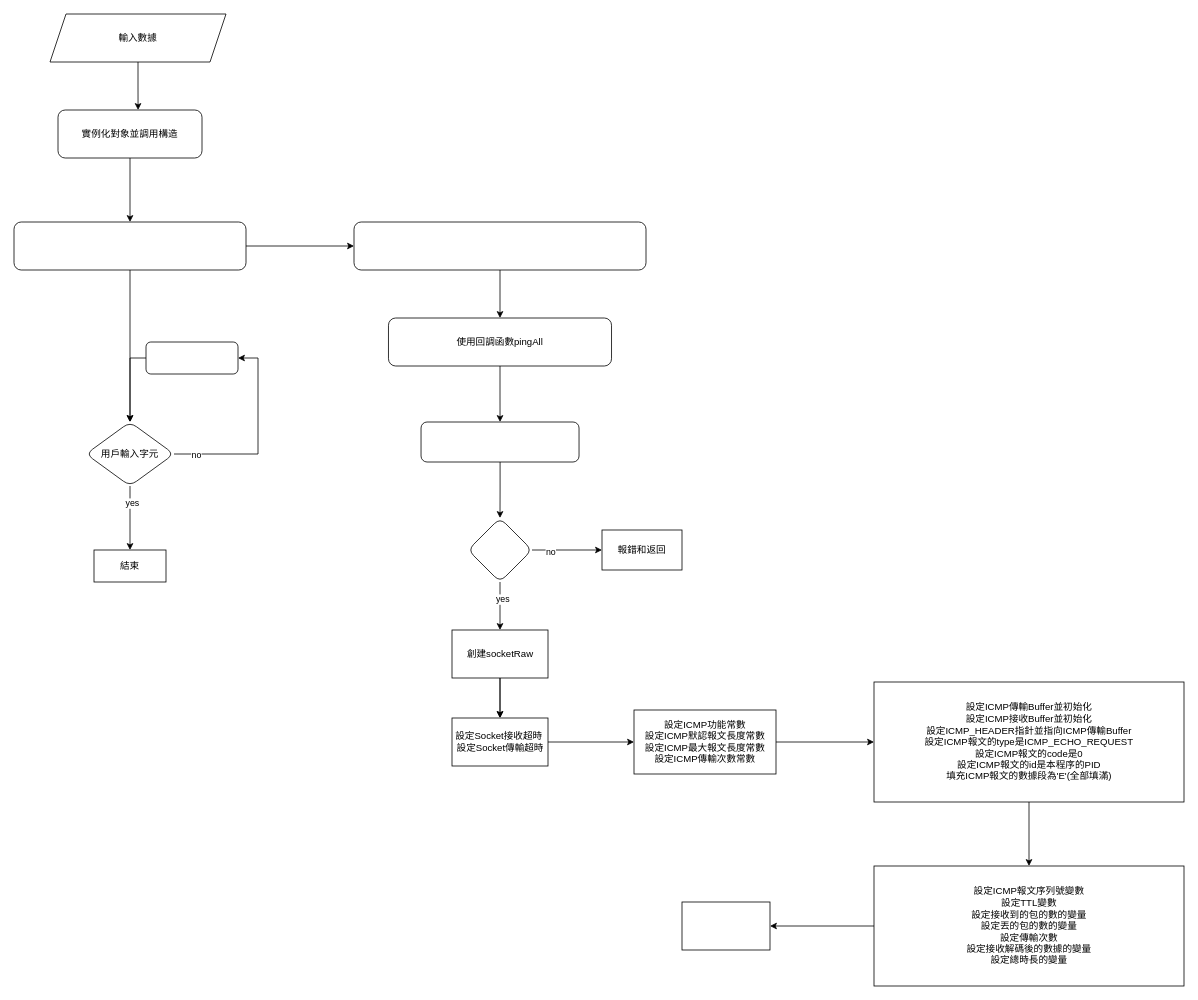
The diagram is 1198 pixels wide and 1000 high, and some of its shapes have lost their labels. Here are the shapes that lost their labels. From the top down, the box of each, then its label:
(13, 221, 246, 270): 對象調用進入線程函數
(353, 221, 646, 270): 新線程
(145, 341, 238, 374): 阻塞
(420, 421, 579, 462): ping第 i 個目標
(467, 517, 532, 582): 域名解析
(681, 901, 770, 950): 開始傳輸
